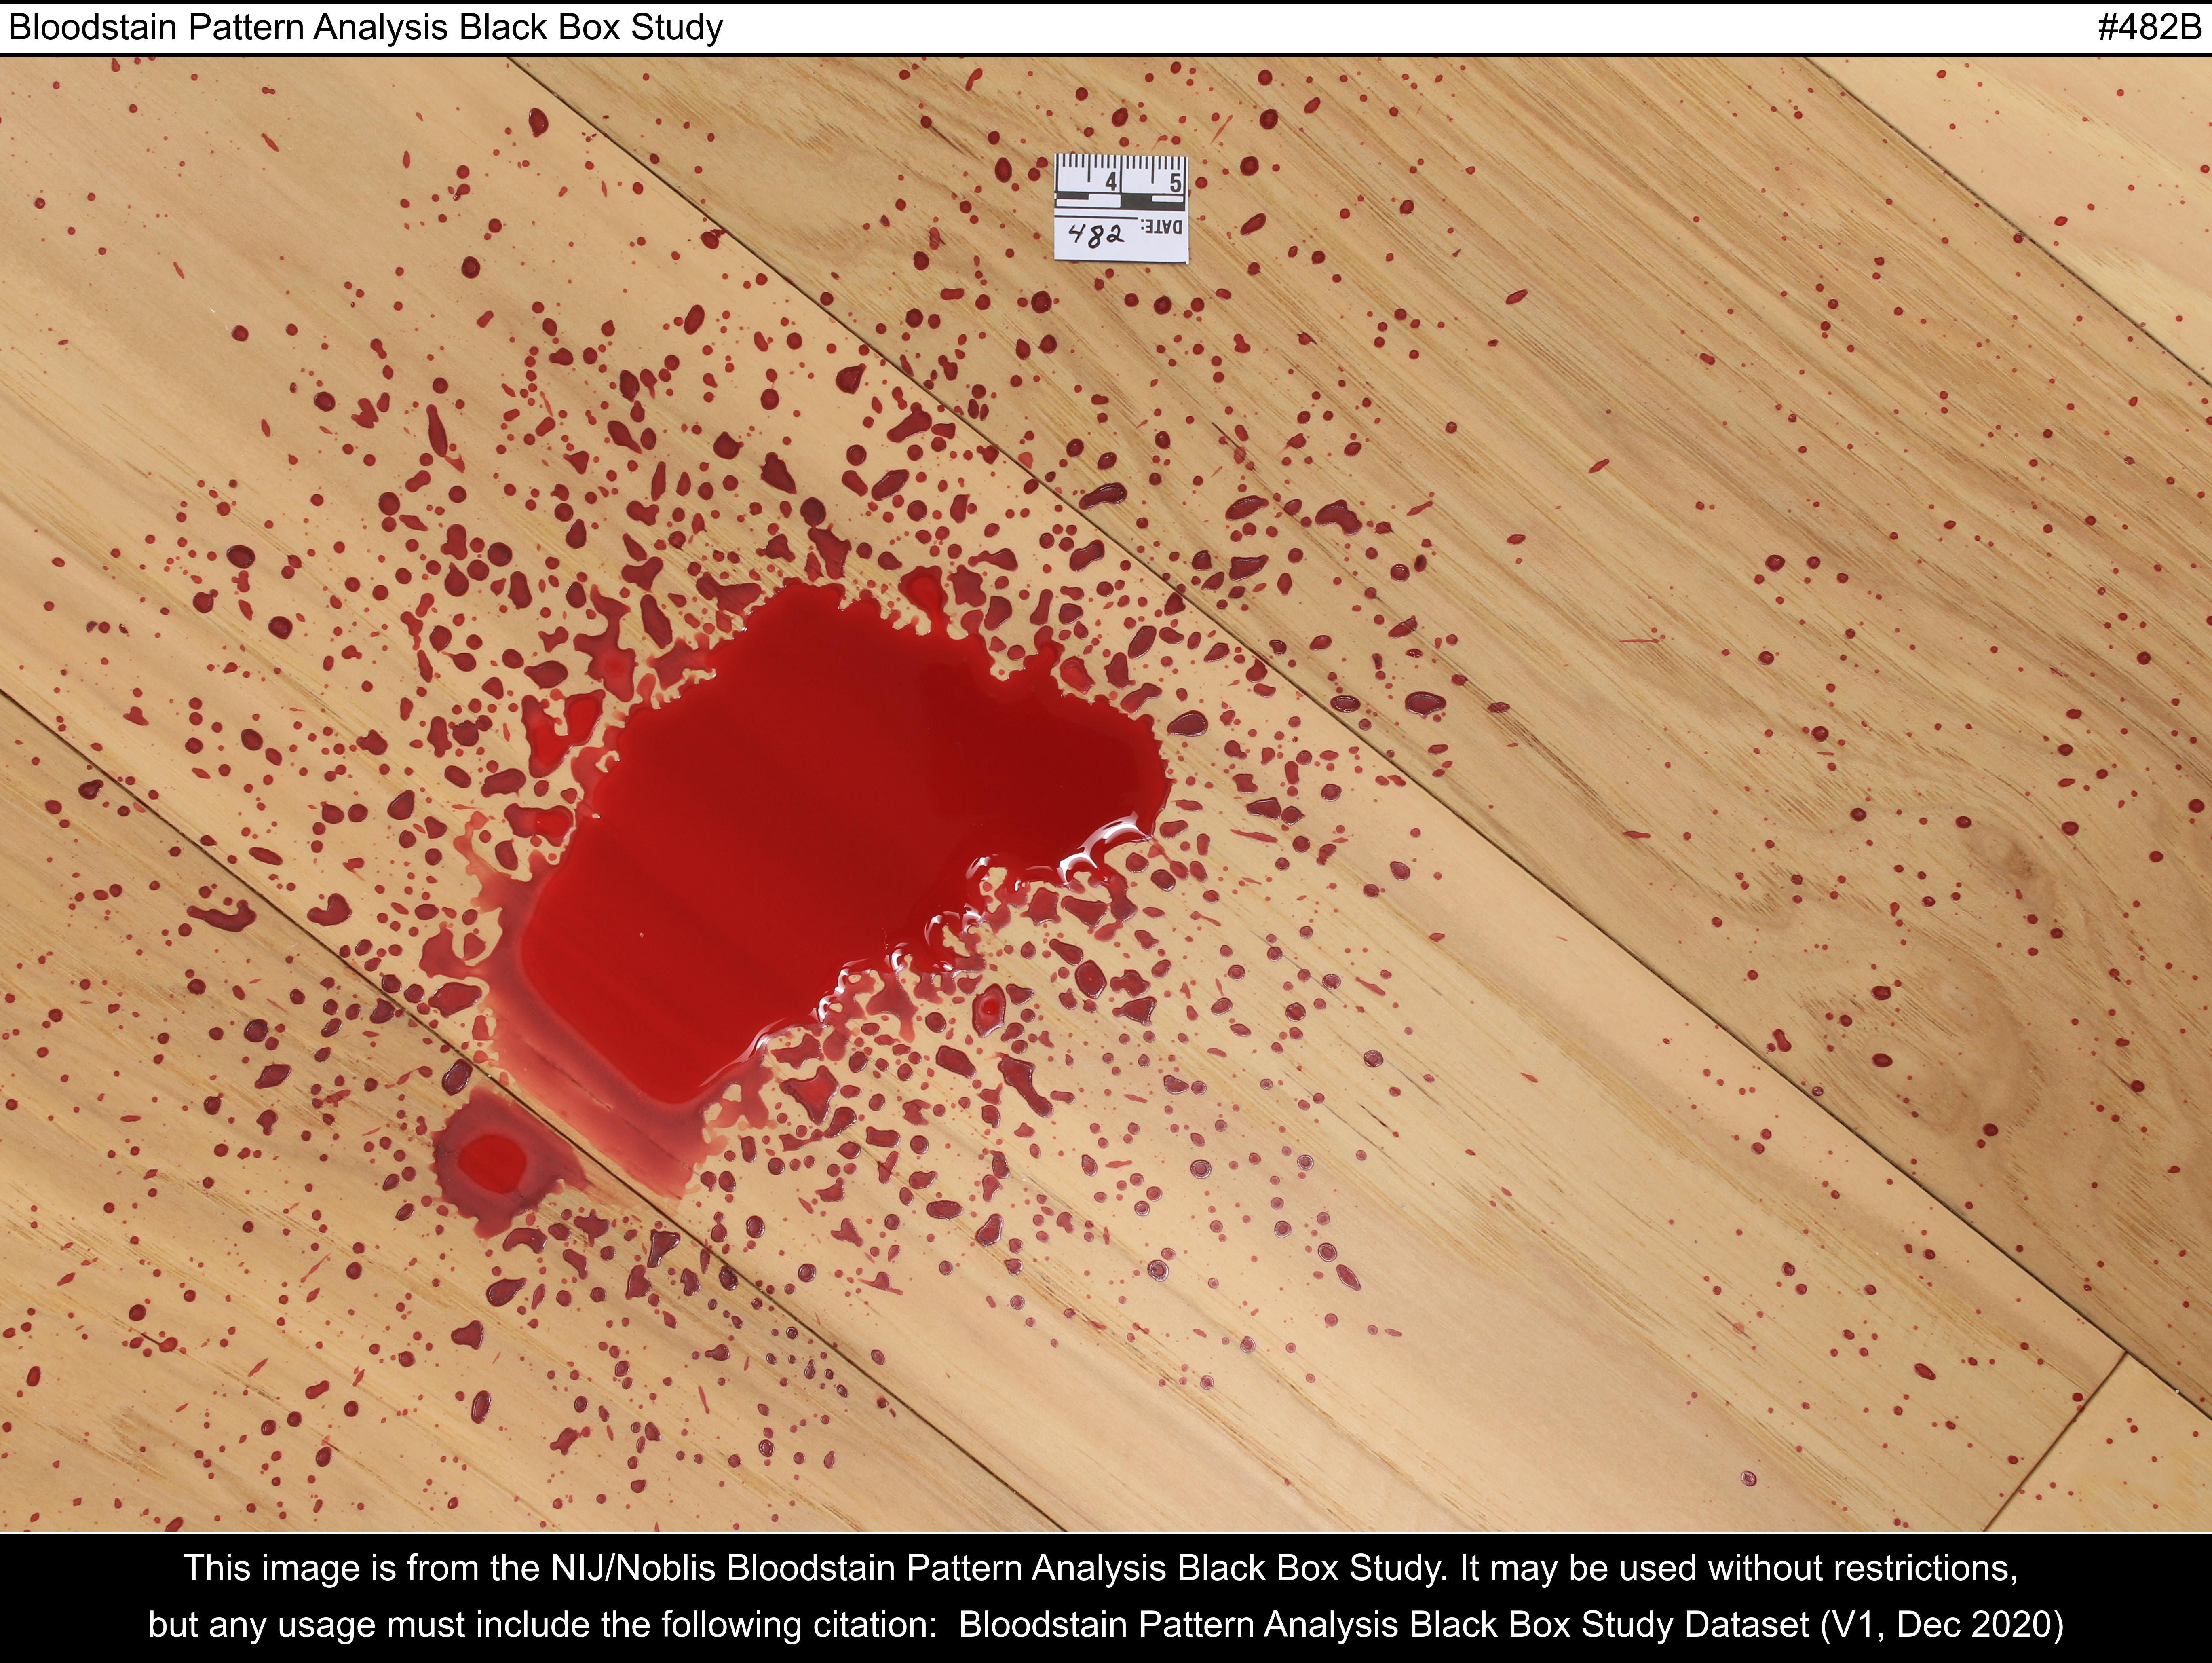Passive: (112, 325, 1435, 1347)
